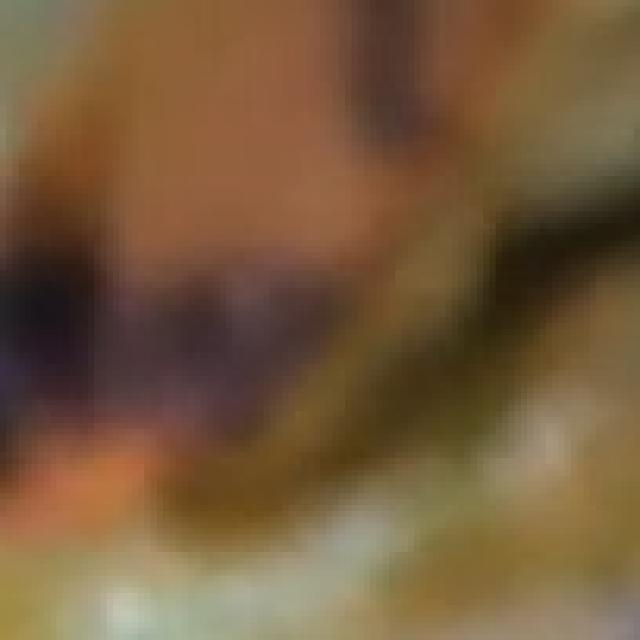fish: (0, 0, 634, 634)
